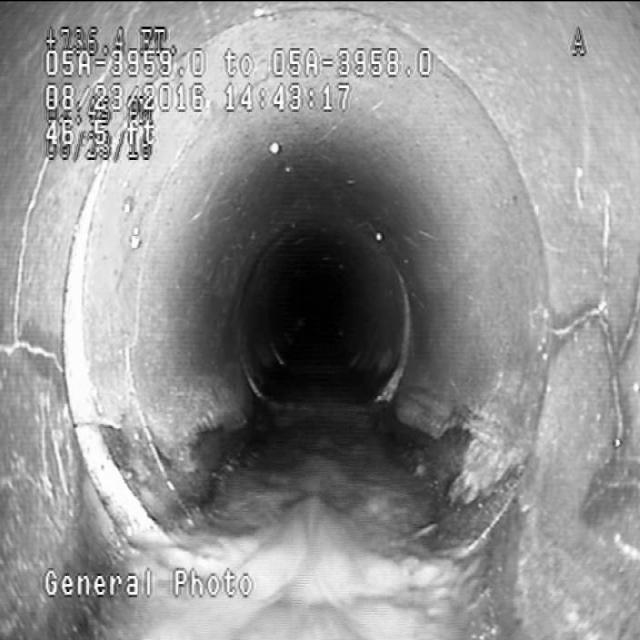Fracture: (501, 234, 639, 435)
